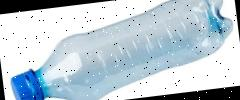plastic: (2, 0, 240, 100)
